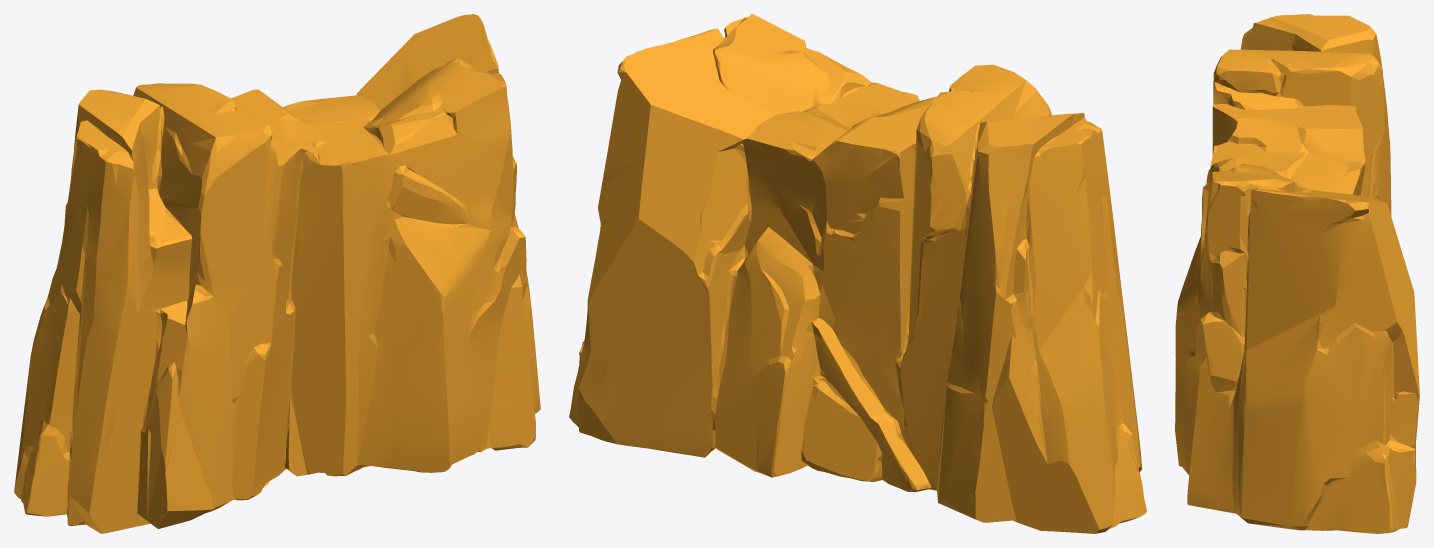
Rendered from SM_Iceberg_Big_D.fbx.
The picture shows the model from 3 angles, left to right: view 1: azimuth 30°, elevation 25°; view 2: azimuth 150°, elevation 25°; view 3: azimuth 270°, elevation 25°; orthographic projection. The views are drawn at different scales.
Parts seen in each view (by area): view 1: iceberg-big-d; view 2: iceberg-big-d; view 3: iceberg-big-d.
Boxes of the visible parts, box(x1,y1,x2,y2) form: iceberg-big-d: box(14, 14, 540, 533); iceberg-big-d: box(569, 14, 1146, 533); iceberg-big-d: box(1175, 14, 1419, 533).
Bounding box in the file's own units: 34.25 × 24.06 × 15.53.
